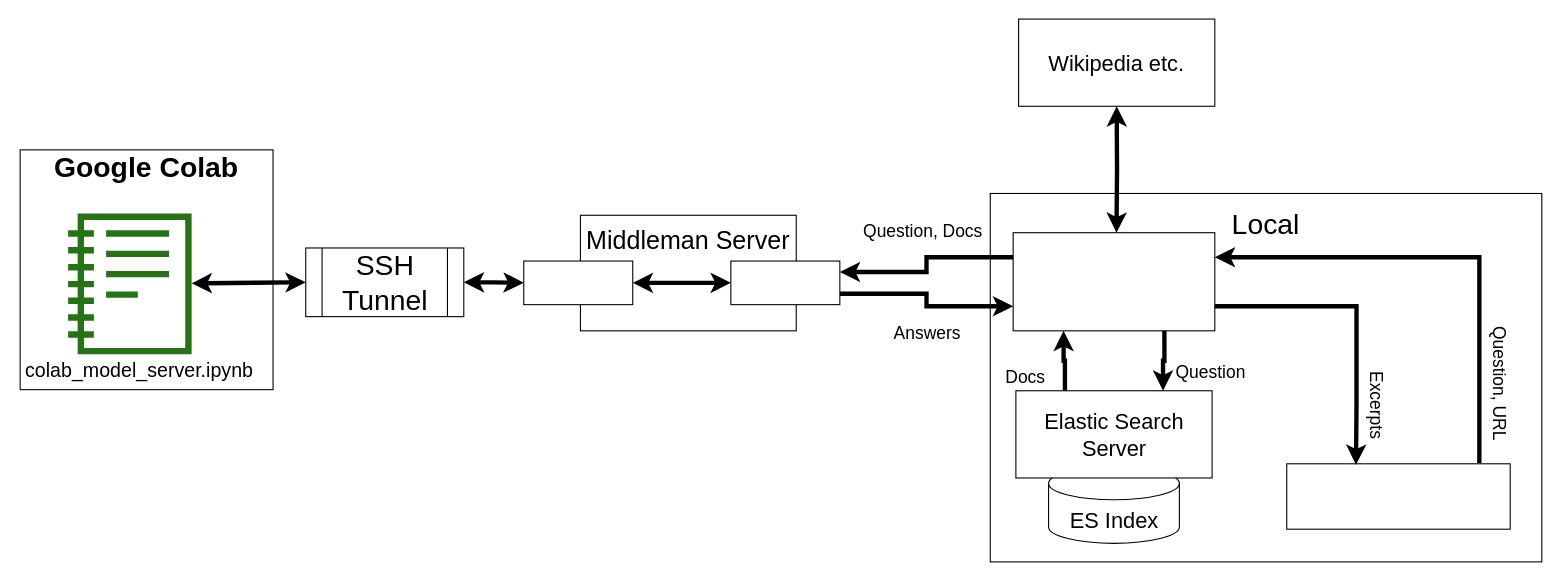
This 1561x581 diagram has some shape labels left out. Each missing label, with the centre of its shape:
e.g. get_excerpts_client.py: pixel 1398 496
Excerpt Server in Colab Mode: pixel 1113 281
Port: 22?: pixel 578 282
Port: 8899: pixel 785 282
